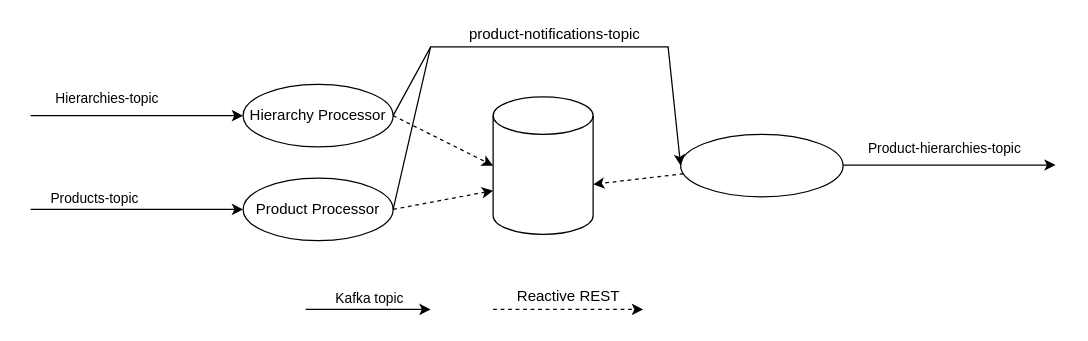
Image size: 1088x341. Some labels were removed from this diagram. Here are the shapes that lost their labels. From the top down, the centre of each, then its label:
At (x=542, y=165): "Neo4j".
At (x=761, y=165): "Product Hierarchy Processor".
